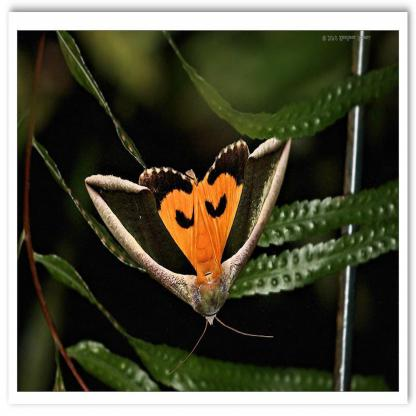fruit sucking moth: (82, 139, 290, 328)
